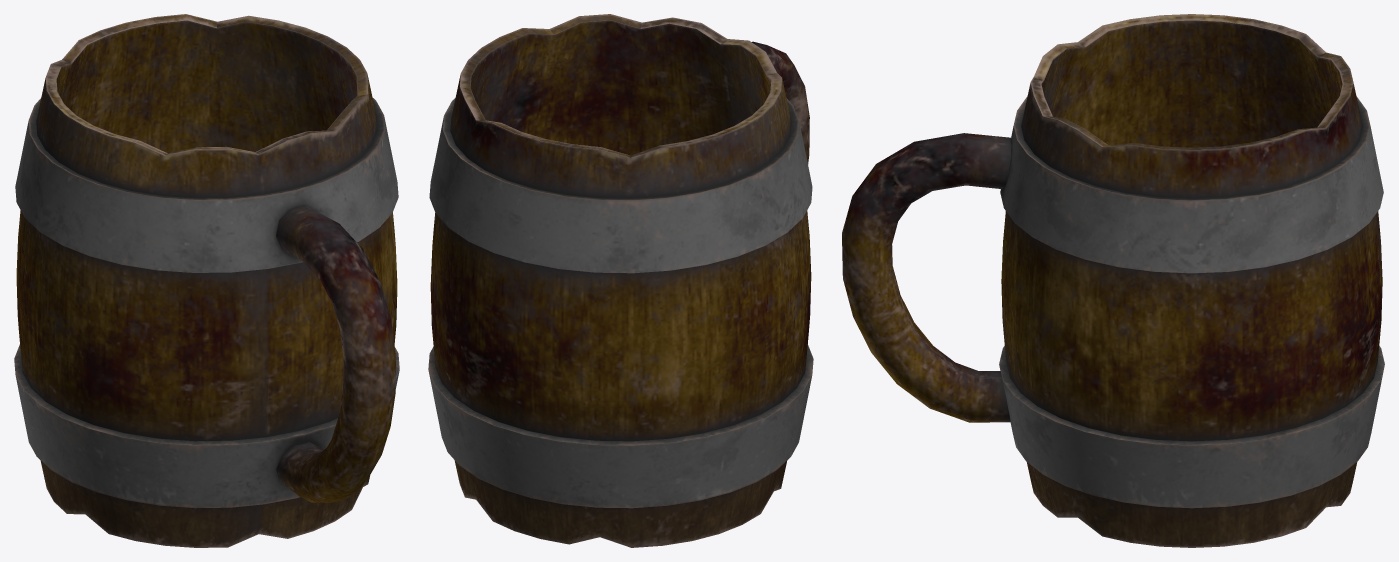
The model's file is SM_BeerMug1.fbx.
The picture shows the model from 3 angles, left to right: view 1: azimuth 30°, elevation 25°; view 2: azimuth 150°, elevation 25°; view 3: azimuth 270°, elevation 25°; orthographic projection.
Parts seen in each view (by area): view 1: SM_BeerMug1_LOD0; view 2: SM_BeerMug1_LOD0; view 3: SM_BeerMug1_LOD0.
Boxes of the visible parts, x1,y1,x2,y2 form: SM_BeerMug1_LOD0: [14, 14, 399, 547]; SM_BeerMug1_LOD0: [428, 14, 813, 547]; SM_BeerMug1_LOD0: [842, 14, 1384, 547].
Bounding box in the file's own units: 12.99 × 18.28 × 14.76.
1 material, 1 textured.
